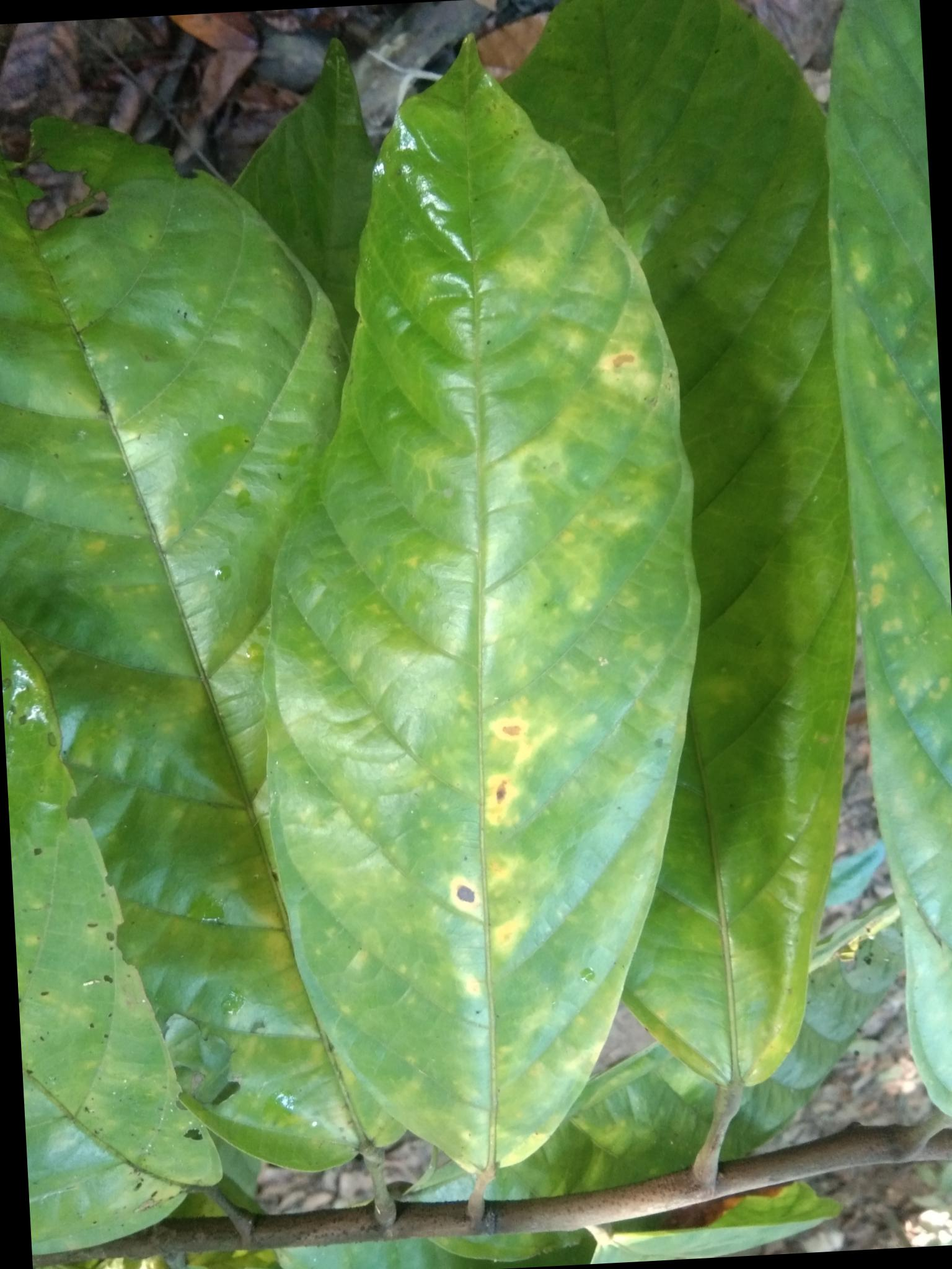Fosforo: (253, 38, 701, 1177)
